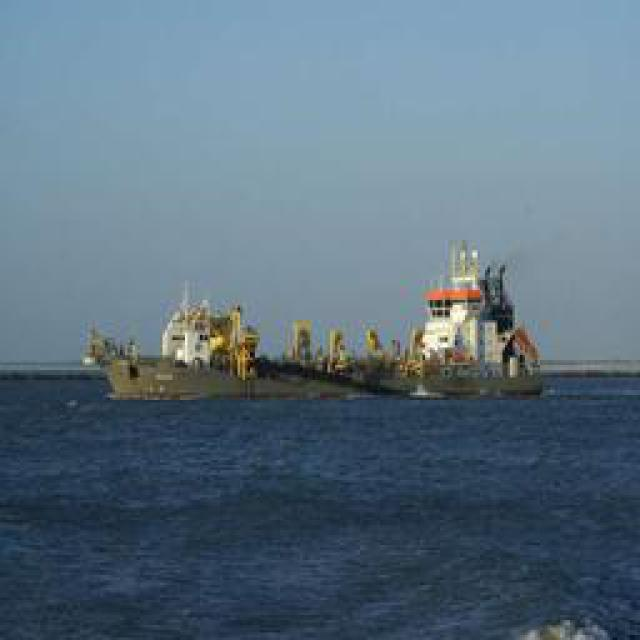Ship: (75, 239, 541, 406)
